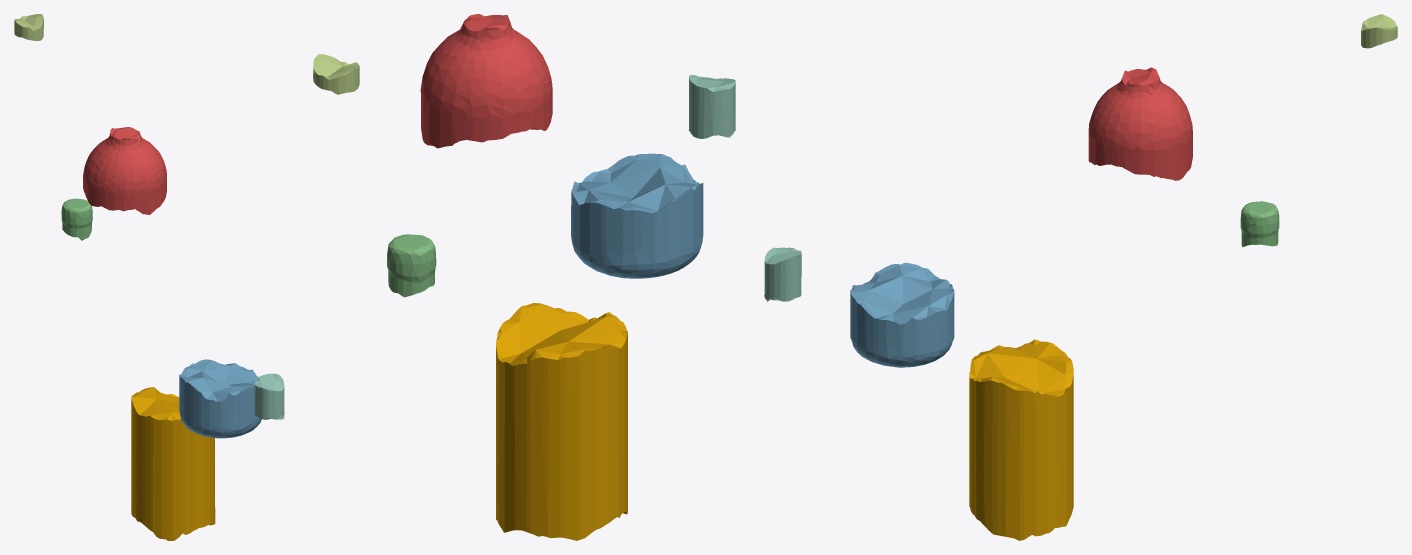
Rendered from fractured_78_6pcs_transformed.glb.
3 views of the same model, side by side, from view 1: azimuth 30°, elevation 25°; view 2: azimuth 150°, elevation 25°; view 3: azimuth 270°, elevation 25° (orthographic). The views are drawn at different scales.
Parts seen in each view (by area): view 1: piece_0.obj, piece_1.obj, piece_2.obj, piece_4.obj, piece_3.obj, piece_5.obj; view 2: piece_0.obj, piece_2.obj, piece_1.obj, piece_4.obj, piece_3.obj, piece_5.obj; view 3: piece_0.obj, piece_2.obj, piece_1.obj, piece_4.obj, piece_3.obj, piece_5.obj.
Boxes of the visible parts, bbox=[...] form: piece_0.obj: bbox=[131, 387, 215, 540]; piece_1.obj: bbox=[83, 127, 166, 214]; piece_2.obj: bbox=[179, 359, 261, 438]; piece_4.obj: bbox=[254, 373, 284, 419]; piece_3.obj: bbox=[61, 198, 92, 240]; piece_5.obj: bbox=[14, 14, 43, 40]; piece_0.obj: bbox=[496, 303, 627, 540]; piece_2.obj: bbox=[571, 153, 703, 278]; piece_1.obj: bbox=[420, 14, 552, 148]; piece_4.obj: bbox=[688, 75, 735, 138]; piece_3.obj: bbox=[387, 234, 436, 297]; piece_5.obj: bbox=[313, 54, 359, 94]; piece_0.obj: bbox=[969, 339, 1073, 540]; piece_2.obj: bbox=[850, 262, 954, 367]; piece_1.obj: bbox=[1088, 67, 1192, 180]; piece_4.obj: bbox=[764, 247, 801, 301]; piece_3.obj: bbox=[1240, 201, 1279, 246]; piece_5.obj: bbox=[1361, 14, 1397, 48].
Bounding box in the file's own units: 0.2625 × 1.39 × 1.59.
